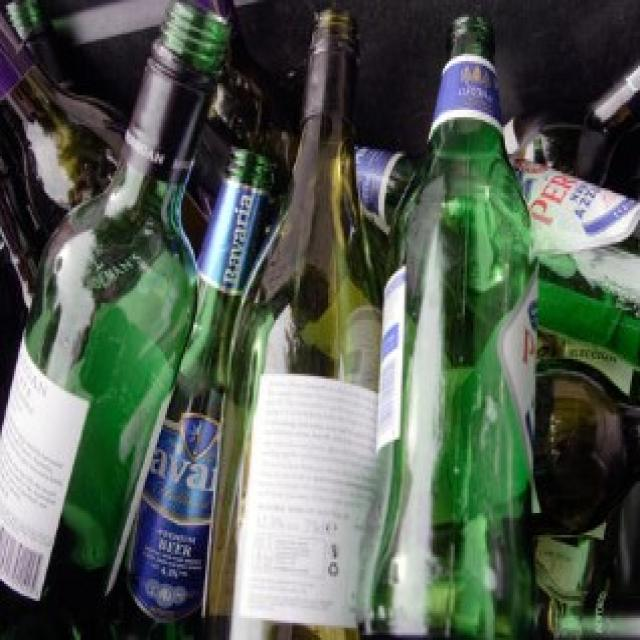electronic: (0, 1, 544, 640)
